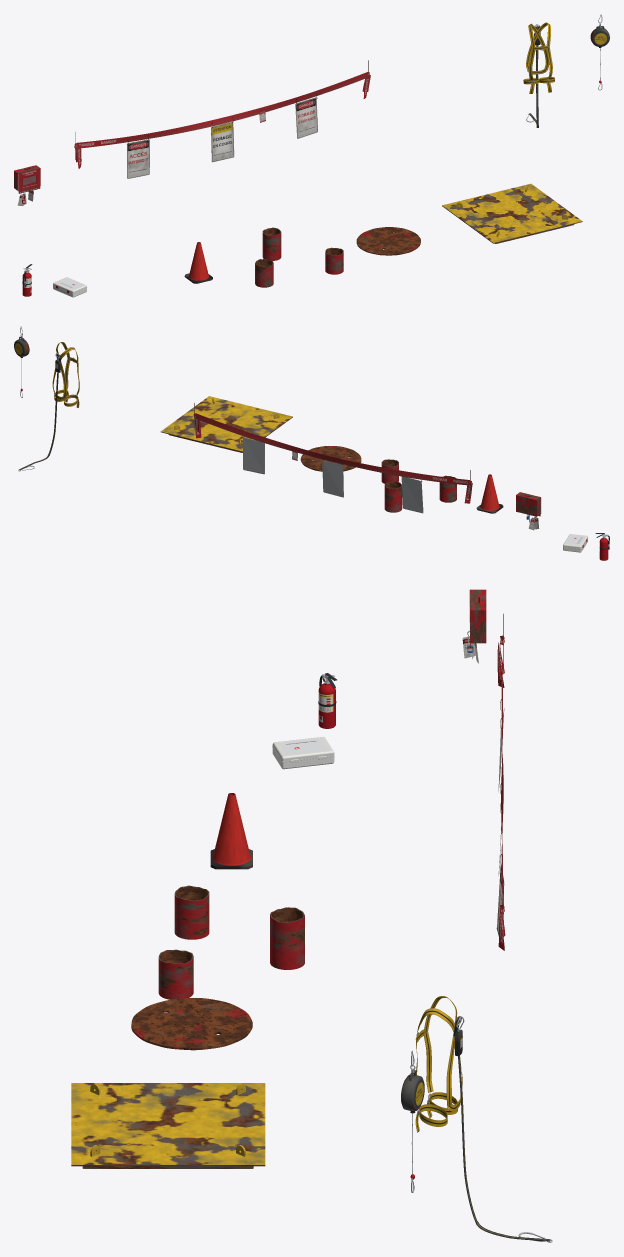
The model's file is Lot_Securite_Complet.glb.
3 renders of one model, top to bottom at view 1: azimuth 30°, elevation 25°; view 2: azimuth 150°, elevation 25°; view 3: azimuth 270°, elevation 25°, orthographic. The views are drawn at different scales.
Parts seen in each view (by area): view 1: P07, Lot_Securite_Complet, P02, P09, P06, object 5, object 2, P08, object 8, P04; view 2: P07, P02, Lot_Securite_Complet, P09, P06, object 8, object 5, object 2, P08, P04; view 3: P07, Lot_Securite_Complet, P06, P09, P04, P08, P02.
Boxes of the visible parts, <box> form: P07: <box>442,183,582,243</box>; Lot_Securite_Complet: <box>22,227,343,297</box>; P02: <box>74,60,370,168</box>; P09: <box>523,14,609,127</box>; P06: <box>356,227,420,255</box>; object 5: <box>211,121,234,162</box>; object 2: <box>127,139,149,178</box>; P08: <box>14,165,40,205</box>; object 8: <box>295,97,317,138</box>; P04: <box>184,242,212,283</box>; P07: <box>160,396,292,452</box>; P02: <box>193,403,472,503</box>; Lot_Securite_Complet: <box>381,459,609,560</box>; P09: <box>14,326,79,471</box>; P06: <box>300,446,361,471</box>; object 8: <box>243,437,264,474</box>; object 5: <box>322,460,343,497</box>; object 2: <box>401,476,423,513</box>; P08: <box>516,492,541,530</box>; P04: <box>476,474,503,513</box>; P07: <box>71,1083,265,1168</box>; Lot_Securite_Complet: <box>158,673,336,999</box>; P06: <box>131,998,252,1050</box>; P09: <box>401,996,552,1242</box>; P04: <box>210,793,252,869</box>; P08: <box>462,589,486,663</box>; P02: <box>497,613,505,950</box>.
Bounding box in the file's own units: 8.32 × 1.7 × 3.03.
59 materials, 32 textured.
